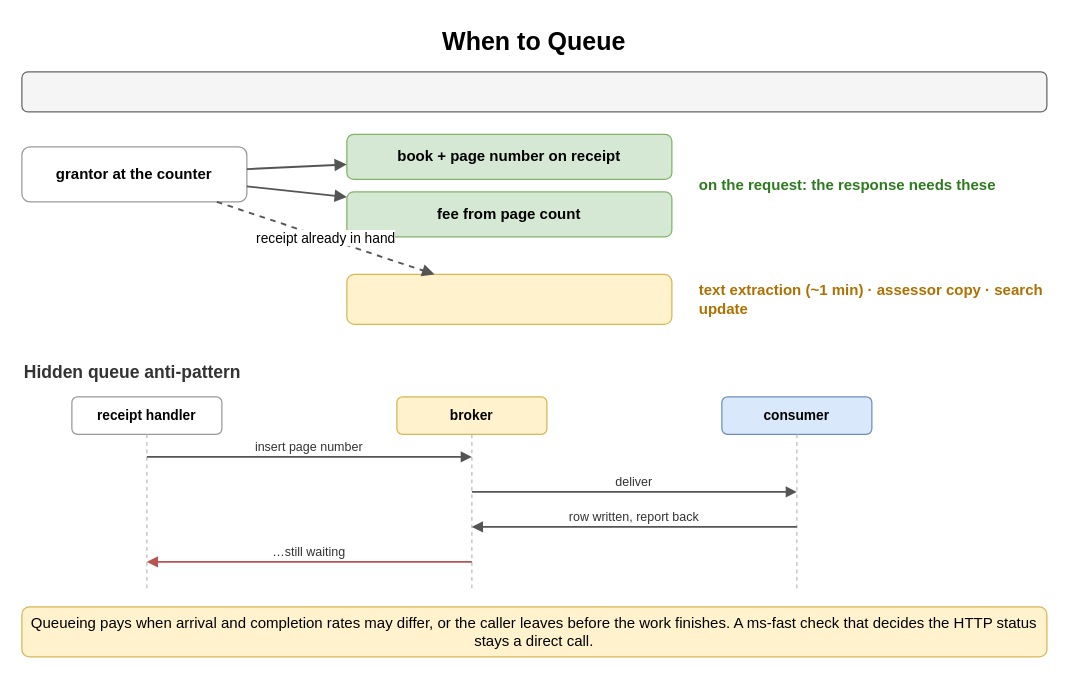
Some shapes in this 1069 by 679 pixel diagram are drawn without their labels. Here are the shapes that lost their labels. From the top down, the box of each, then its label:
(21, 71, 1047, 112): Queue a step when the caller can finish without its result
(346, 273, 672, 324): bus
